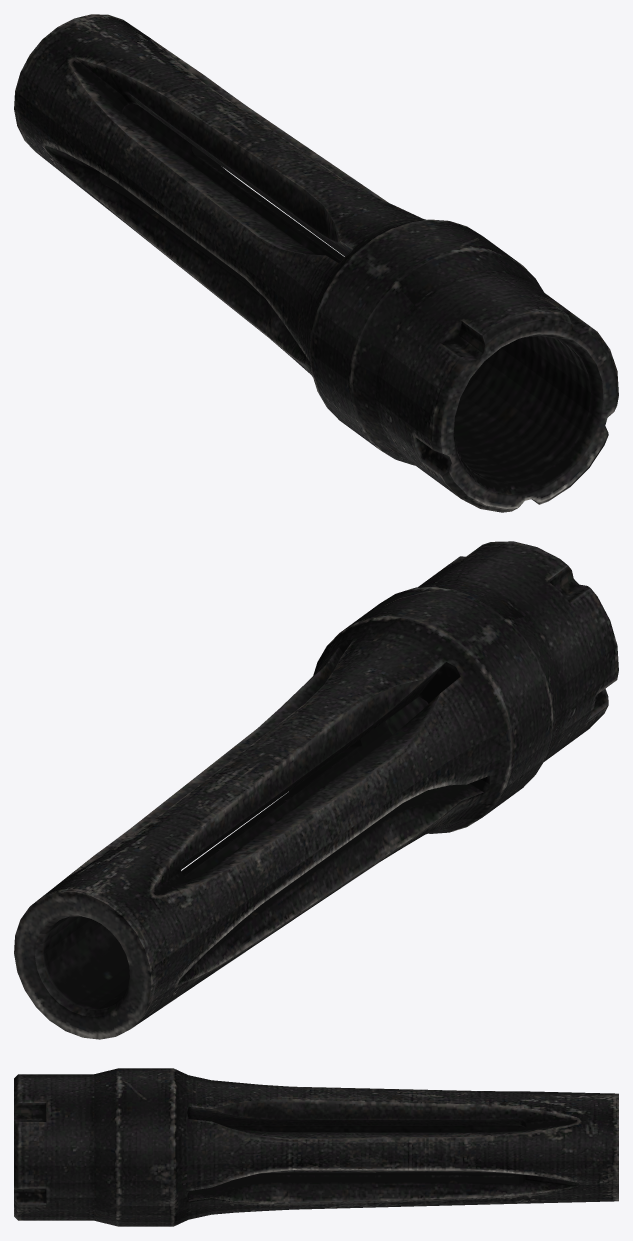
3 views of the same model, one above another, from view 1: azimuth 30°, elevation 25°; view 2: azimuth 150°, elevation 25°; view 3: azimuth 270°, elevation 25° (orthographic). The views are drawn at different scales.
Visible parts, largest first — view 1: TW_6492efb8cfcf7c89e701abf3_PZ_Import; view 2: TW_6492efb8cfcf7c89e701abf3_PZ_Import; view 3: TW_6492efb8cfcf7c89e701abf3_PZ_Import.
Part boxes in pixels (x1=…): TW_6492efb8cfcf7c89e701abf3_PZ_Import: x1=14, y1=14, x2=618, y2=512; TW_6492efb8cfcf7c89e701abf3_PZ_Import: x1=14, y1=541, x2=618, y2=1039; TW_6492efb8cfcf7c89e701abf3_PZ_Import: x1=14, y1=1068, x2=618, y2=1226.
Bounding box in the file's own units: 0.0139 × 0.0532 × 0.0139.
Materials: 1 (1 with a texture image).
